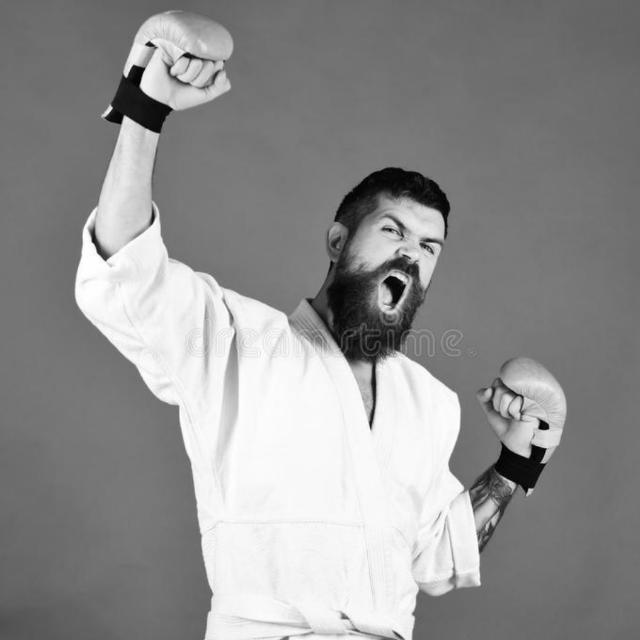Angry: (350, 155, 492, 388)
